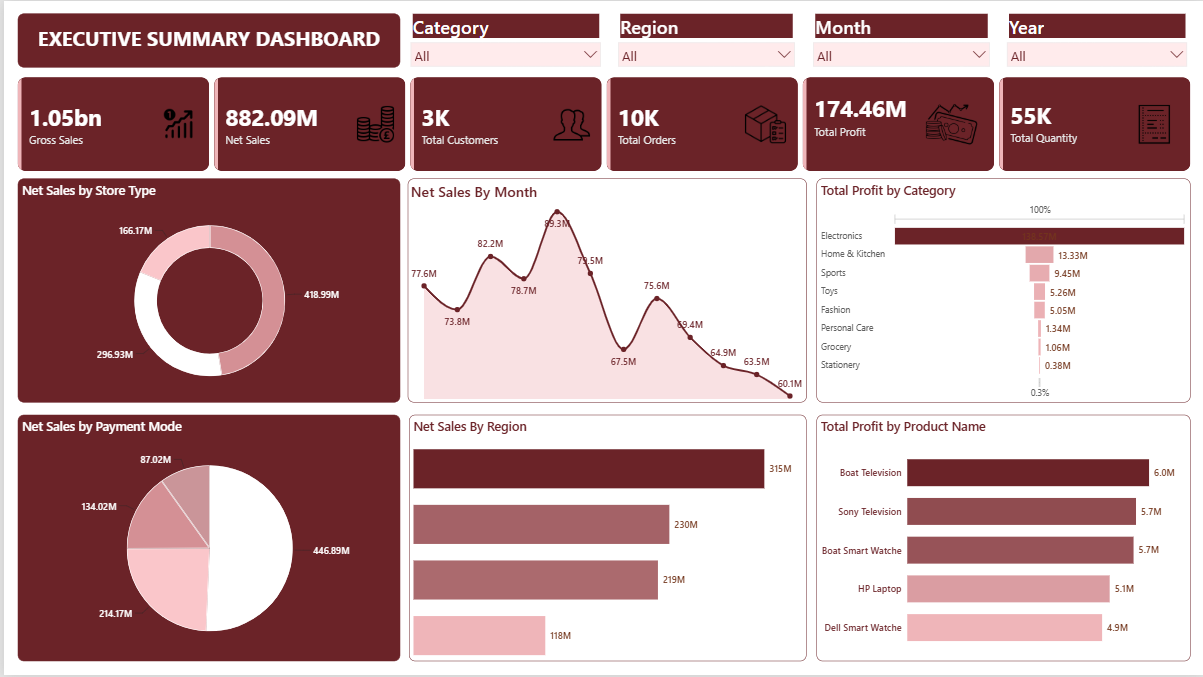

The page's visual inventory and layout, read from the dashboard file:
{"tool":"powerbi","page":{"name":"Page 1","canvas":[1920,1080],"ordinal":0},"visuals":[{"type":"textbox","box":[22,20,612,86],"z":0},{"type":"slicer","fields":{"Values":["Date Table.Date.Variation.Date Hierarchy.Year"]},"box":[1600,20,298,102],"z":1000,"group":"g1"},{"type":"cardVisual","fields":{"Data":["All Measures.Gross Sales","All Measures.Net Sales","All Measures.Total Customers","All Measures.Total Orders","All Measures.Total Profit","All Measures.Total Quantity"]},"box":[22,122,1876,150],"z":1000},{"type":"lineChart","title":"Net Sales By Month","fields":{"Category":["Date Table.Date.Variation.Date Hierarchy.Month"],"Y":["All Measures.Net Sales"]},"box":[646,284,638,358],"z":2000},{"type":"slicer","fields":{"Values":["Date Table.Date.Variation.Date Hierarchy.Month"]},"box":[1289.3,19,292.2,105.6],"z":3000,"group":"g1"},{"type":"clusteredBarChart","title":"Net Sales By Region","fields":{"Category":["Customers.Region"],"Y":["All Measures.Net Sales"]},"box":[648,662,636,394],"z":3000},{"type":"slicer","fields":{"Values":["Customers.Region"]},"box":[978.5,19,292.2,103.3],"z":4000,"group":"g1"},{"type":"funnel","fields":{"Category":["Products.Category"],"Y":["All Measures.Total Profit"]},"box":[1300,284,598,358],"z":4000},{"type":"slicer","fields":{"Values":["Products.Category"]},"box":[646,20,314,102],"z":5000,"group":"g1"},{"type":"donutChart","fields":{"Category":["Stores.Store Type"],"Y":["All Measures.Net Sales"]},"box":[22,284,612,358],"z":5000},{"type":"clusteredBarChart","fields":{"Category":["Products.Product Name"],"Y":["All Measures.Total Profit"]},"box":[1300,662,598,394],"z":6000},{"type":"pieChart","fields":{"Category":["Sales.Payment Mode"],"Y":["All Measures.Net Sales"]},"box":[22,662,612,394],"z":7000},{"type":"group","id":"g1","title":"Group 1","box":[646,19,1252,105.6],"z":8000}]}

Visuals, with their boxes in screenshot pixels (x1, y1, x2, y2), scaled from the page's 1920x1080 canvas onto the 1203x677 screenshot:
textbox: [left=14, top=13, right=397, bottom=66]
slicer - Date Table.Date.Variation.Date Hierarchy.Year: [left=1002, top=13, right=1189, bottom=76]
cardVisual - All Measures.Gross Sales x All Measures.Net Sales: [left=14, top=76, right=1189, bottom=171]
"Net Sales By Month" lineChart: [left=405, top=178, right=805, bottom=402]
slicer - Date Table.Date.Variation.Date Hierarchy.Month: [left=808, top=12, right=991, bottom=78]
"Net Sales By Region" clusteredBarChart: [left=406, top=415, right=805, bottom=662]
slicer - Customers.Region: [left=613, top=12, right=796, bottom=77]
funnel - Products.Category x All Measures.Total Profit: [left=815, top=178, right=1189, bottom=402]
slicer - Products.Category: [left=405, top=13, right=602, bottom=76]
donutChart - Stores.Store Type x All Measures.Net Sales: [left=14, top=178, right=397, bottom=402]
clusteredBarChart - Products.Product Name x All Measures.Total Profit: [left=815, top=415, right=1189, bottom=662]
pieChart - Sales.Payment Mode x All Measures.Net Sales: [left=14, top=415, right=397, bottom=662]
"Group 1" group: [left=405, top=12, right=1189, bottom=78]
